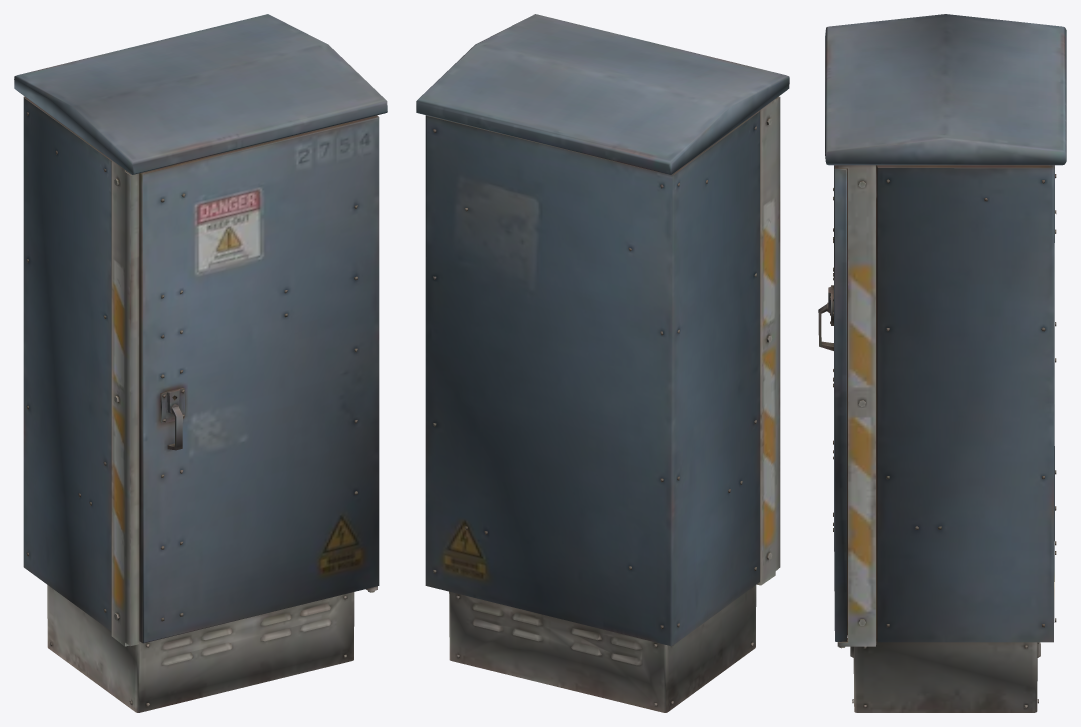
The model's file is utility_box_01.glb.
3 views of the same model, side by side, from view 1: azimuth 30°, elevation 25°; view 2: azimuth 150°, elevation 25°; view 3: azimuth 270°, elevation 25° (orthographic).
Visible parts, largest first — view 1: utility_box_01_box; view 2: utility_box_01_box; view 3: utility_box_01_box.
Boxes of the visible parts, left/top/right/bottom form: utility_box_01_box: left=14, top=14, right=387, bottom=712; utility_box_01_box: left=416, top=14, right=789, bottom=712; utility_box_01_box: left=818, top=14, right=1066, bottom=712.
Bounding box in the file's own units: 0.5182 × 1.12 × 0.4312.
Materials: 1 (1 with a texture image).
